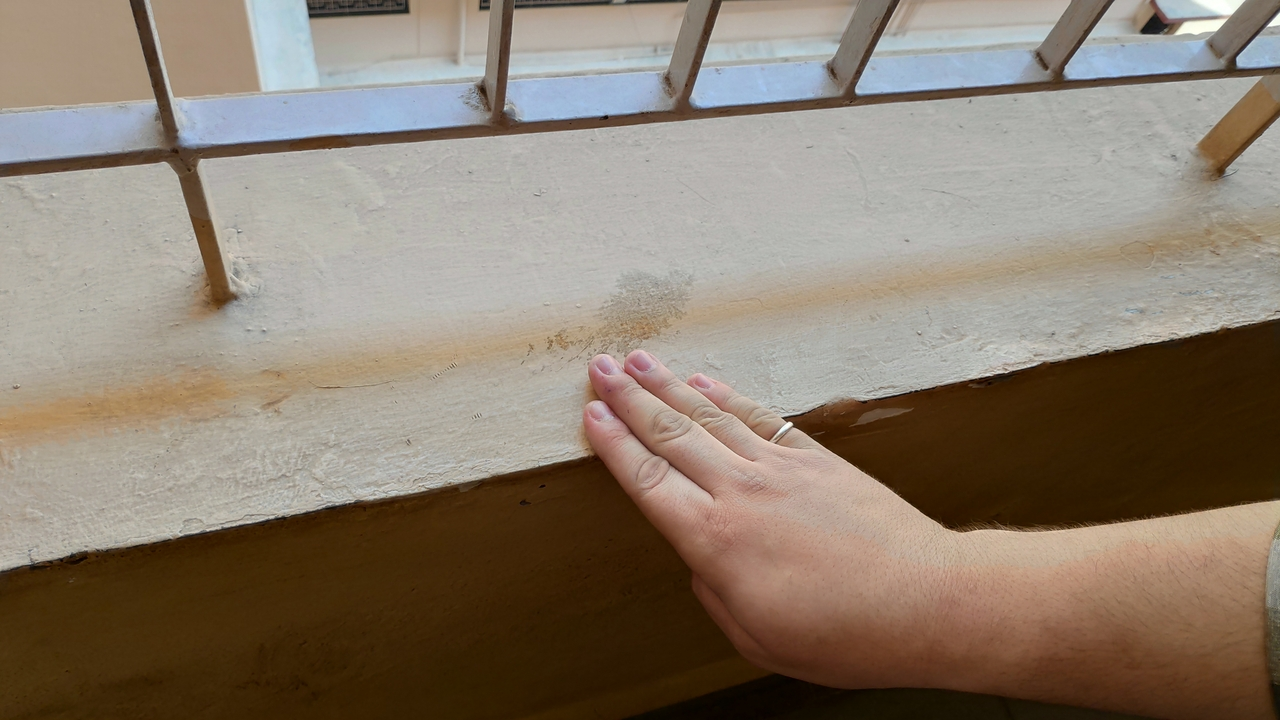fingertip: (580, 349, 624, 384), (568, 397, 615, 429), (628, 342, 661, 378), (688, 365, 720, 394)
